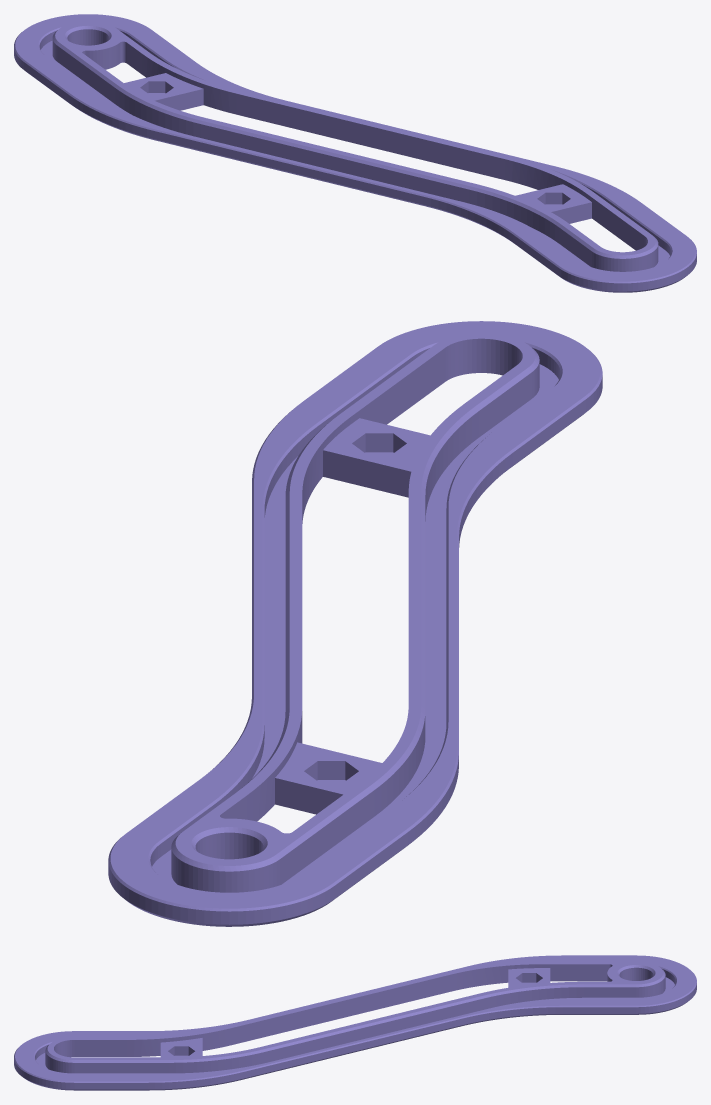
The model's file is home-track-guide-mirror.glb.
The picture shows the model from 3 angles, top to bottom: view 1: azimuth 30°, elevation 25°; view 2: azimuth 150°, elevation 25°; view 3: azimuth 270°, elevation 25°; orthographic projection. The views are drawn at different scales.
Visible parts, largest first — view 1: track_guideMirror.stl; view 2: track_guideMirror.stl; view 3: track_guideMirror.stl.
Part boxes in pixels (box(x1,y1,x2,y2)): track_guideMirror.stl: box(14, 14, 696, 292); track_guideMirror.stl: box(108, 321, 602, 926); track_guideMirror.stl: box(14, 955, 696, 1090).
Bounding box in the file's own units: 1.29 × 0.081 × 2.93.
